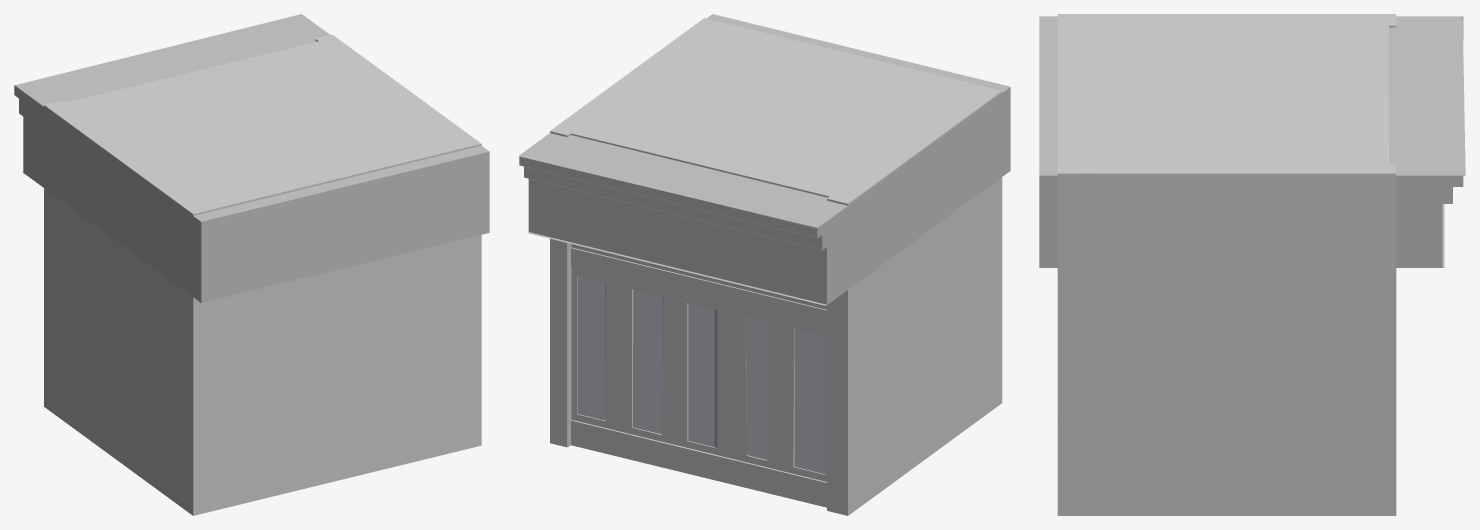
File: Roof_Wall.fbx
3 renders of one model, left to right at view 1: azimuth 30°, elevation 25°; view 2: azimuth 150°, elevation 25°; view 3: azimuth 270°, elevation 25°, orthographic. The views are drawn at different scales.
Parts seen in each view (by area): view 1: Roof Wall; view 2: Roof Wall; view 3: Roof Wall.
Part boxes in pixels (left/top/right/bottom): Roof Wall: left=14, top=14, right=489, bottom=515; Roof Wall: left=518, top=14, right=1010, bottom=515; Roof Wall: left=1039, top=14, right=1465, bottom=515.
Size of the model in its own units: 113 by 100 by 100.
